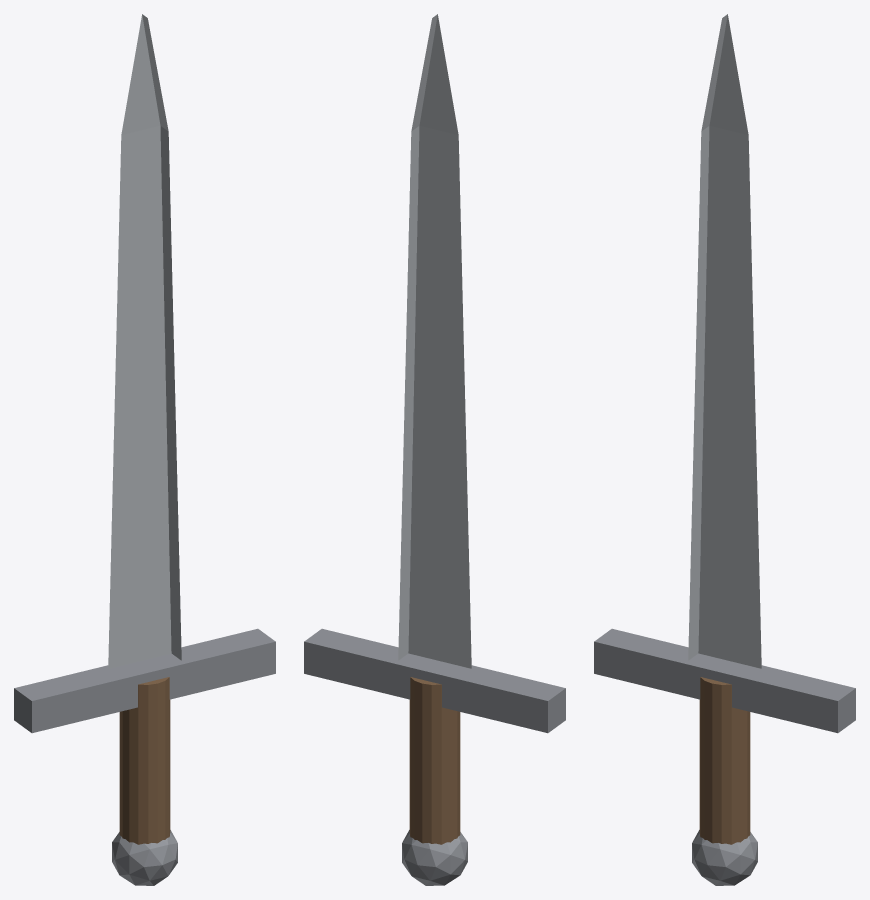
The model's file is chipped_longsword.glb.
The picture shows the model from 3 angles, left to right: view 1: azimuth 30°, elevation 25°; view 2: azimuth 150°, elevation 25°; view 3: azimuth 330°, elevation 25°; orthographic projection.
Visible parts, largest first — view 1: sword_0_0, sword_0_1, sword_0_2, sword_0_3; view 2: sword_0_0, sword_0_1, sword_0_2, sword_0_3; view 3: sword_0_0, sword_0_1, sword_0_2, sword_0_3.
Part boxes in pixels (x1,y1,x2,y2): sword_0_0: [108, 14, 181, 668]; sword_0_1: [14, 628, 275, 733]; sword_0_2: [119, 677, 170, 844]; sword_0_3: [112, 830, 177, 885]; sword_0_0: [398, 14, 471, 668]; sword_0_1: [304, 628, 565, 733]; sword_0_2: [409, 677, 460, 844]; sword_0_3: [402, 830, 467, 885]; sword_0_0: [688, 14, 761, 668]; sword_0_1: [594, 628, 855, 733]; sword_0_2: [699, 677, 750, 844]; sword_0_3: [692, 830, 757, 885].
Bounding box in the file's own units: 1.43 × 4.86 × 0.3525.
